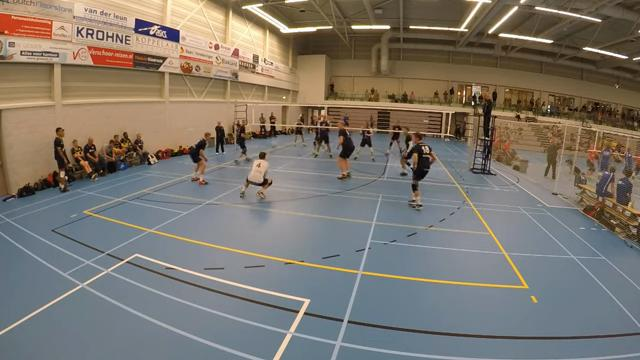ricezione: (232, 147, 275, 202)
